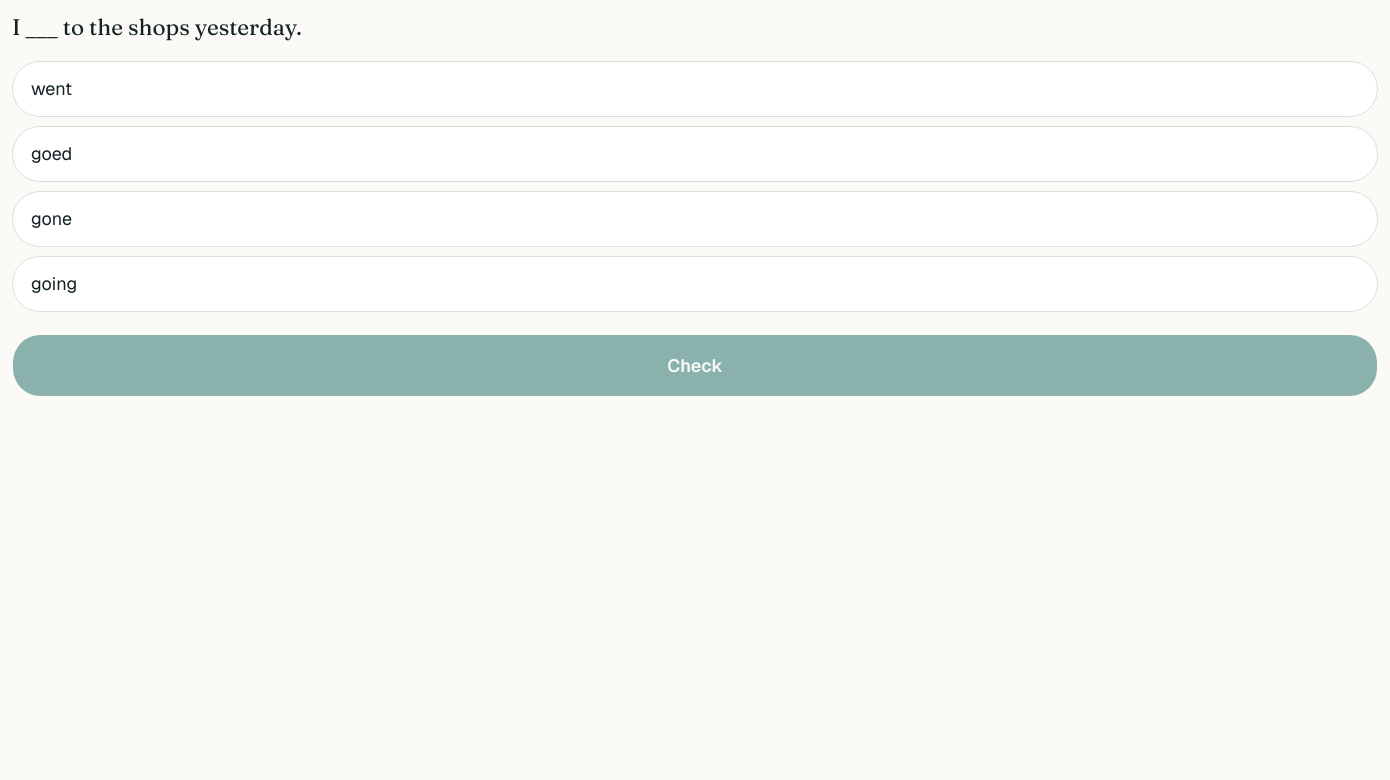
Scenario: the feedback state machine › shows the explanation, and never a Murphy citation beside it
Step 1. Click the button "went" → {"x": 52, "y": 89}, box [12, 61, 1378, 117]
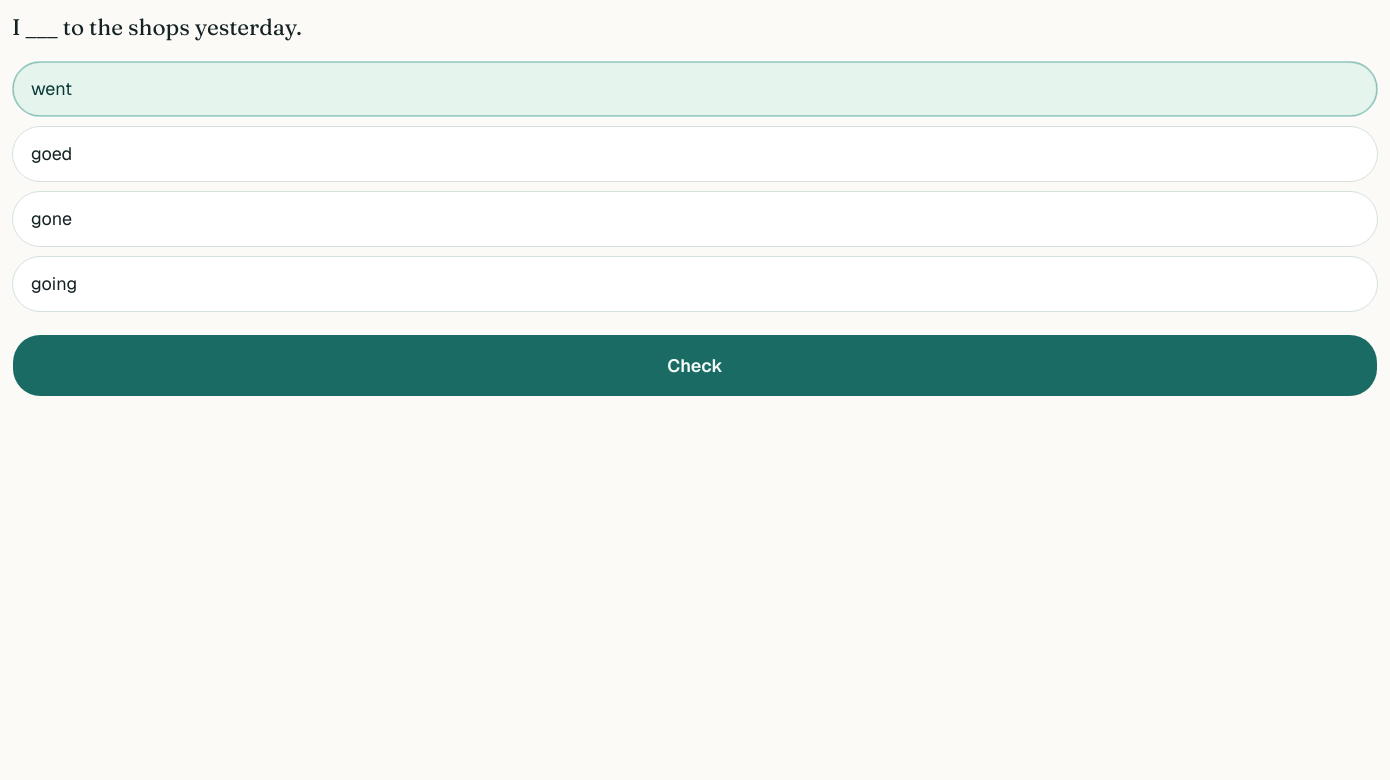
Step 2. Click the button "Check" → {"x": 695, "y": 366}, box [12, 334, 1378, 397]
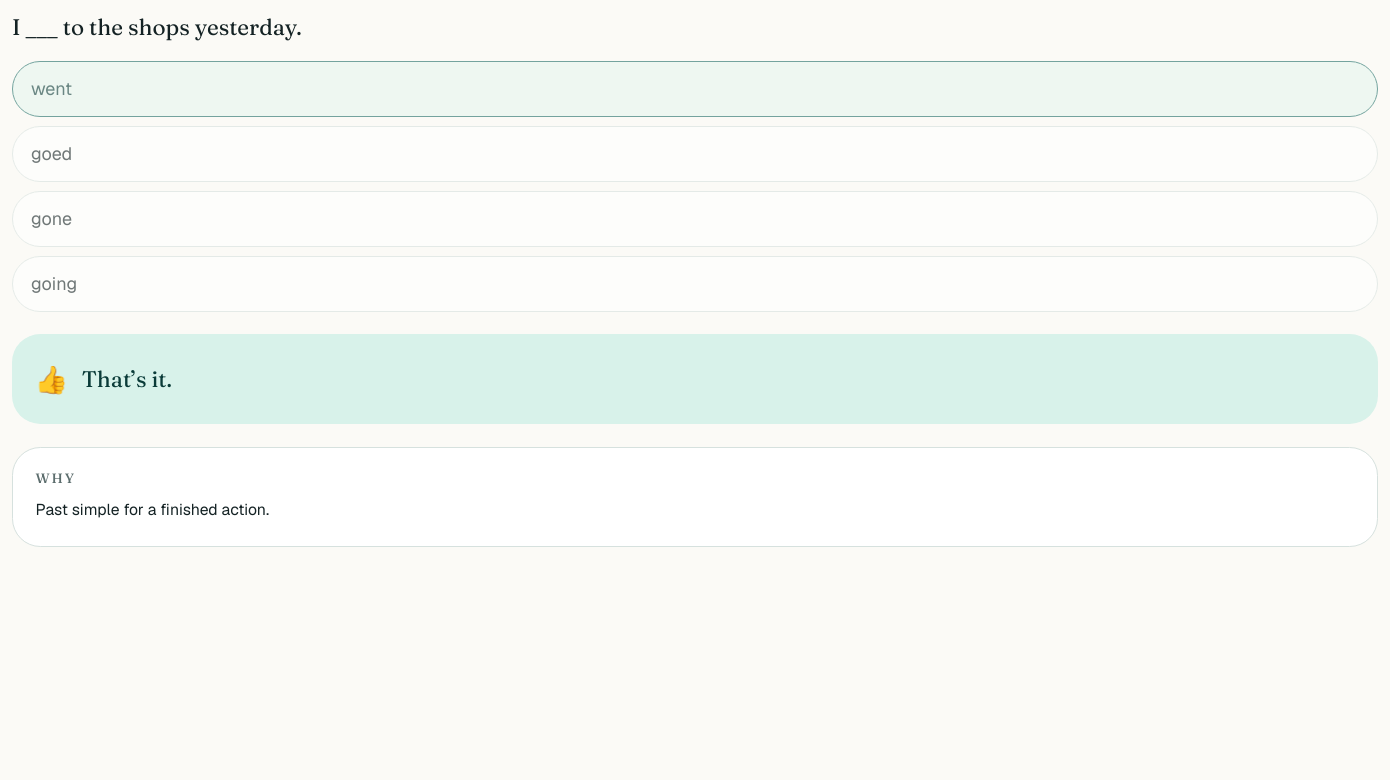
Expected: the element with test id "explanation" does not show "Murphy", [12, 447, 1378, 546]
Expected: the element with test id "explanation" shows "Past simple for a finished action.", [36, 499, 269, 520]
